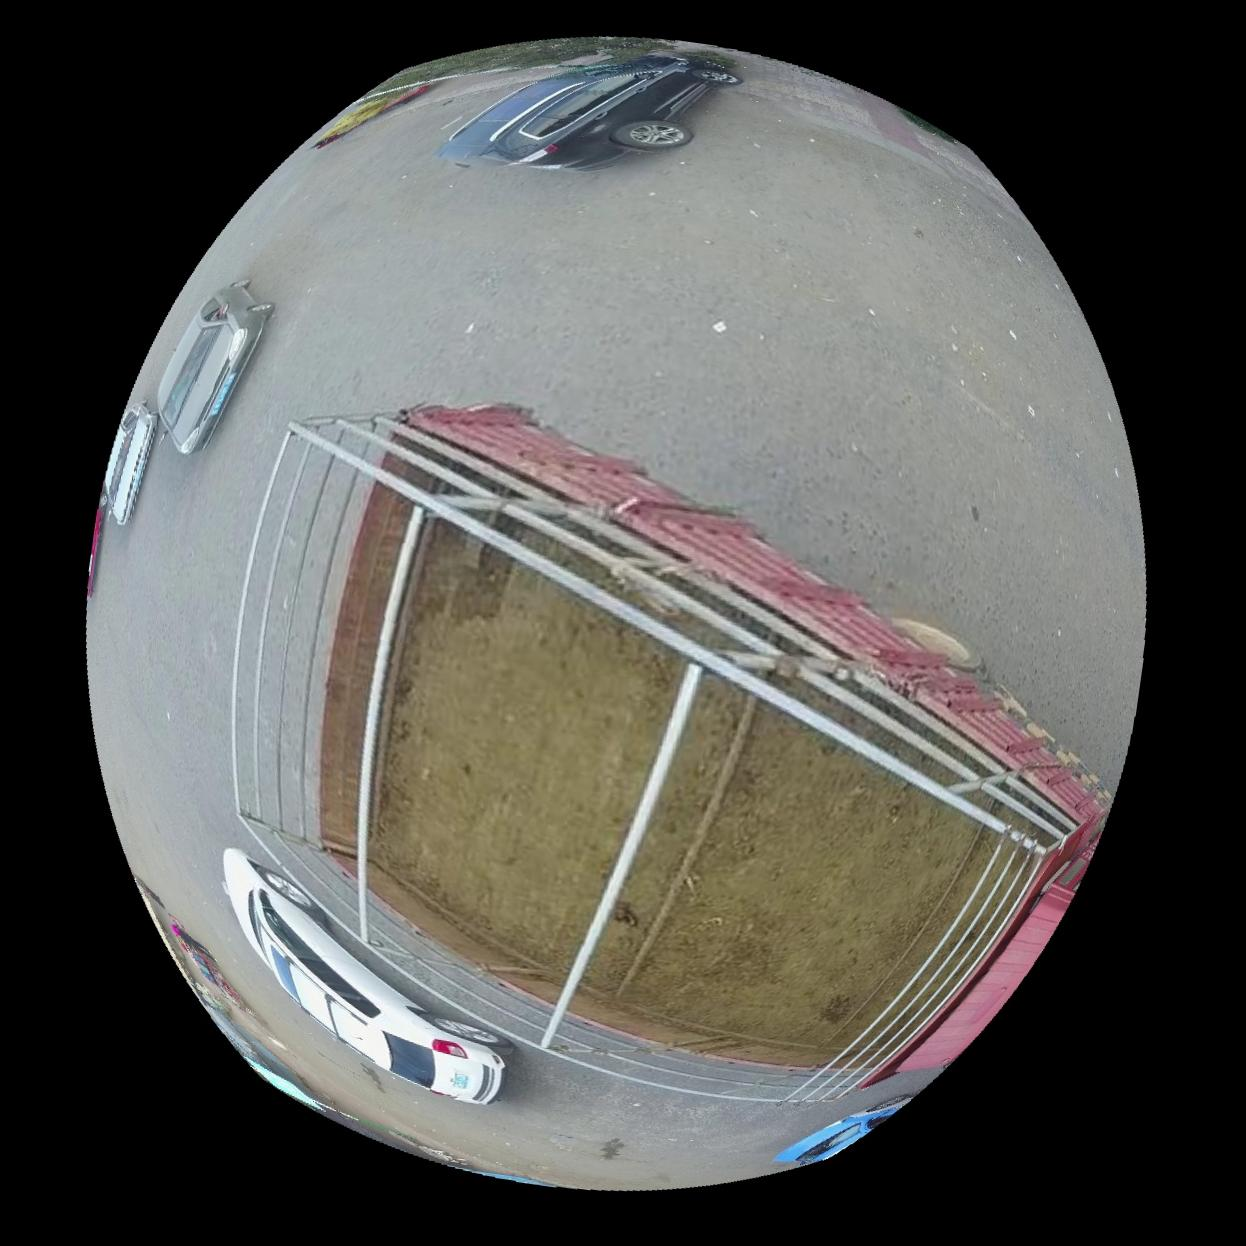cars: (230, 404, 1108, 1103), (221, 850, 512, 1107), (438, 43, 741, 167), (155, 277, 270, 452), (776, 1098, 911, 1166), (100, 400, 156, 524)
